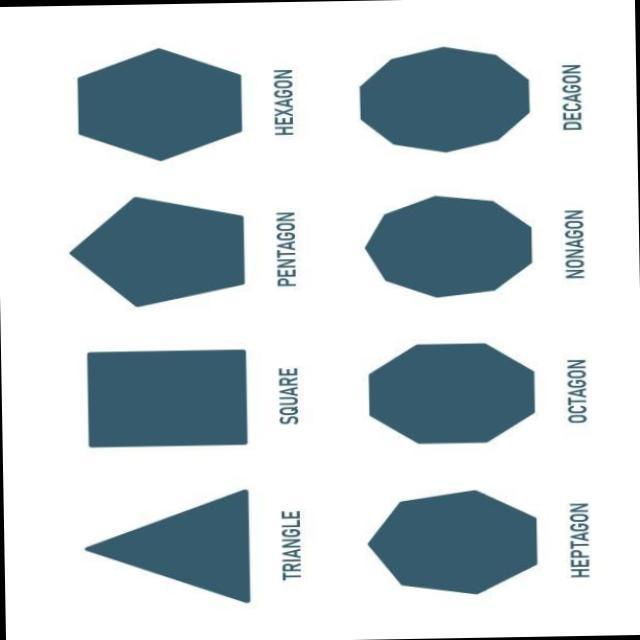square: (67, 338, 265, 456)
triangle: (74, 473, 270, 620)
